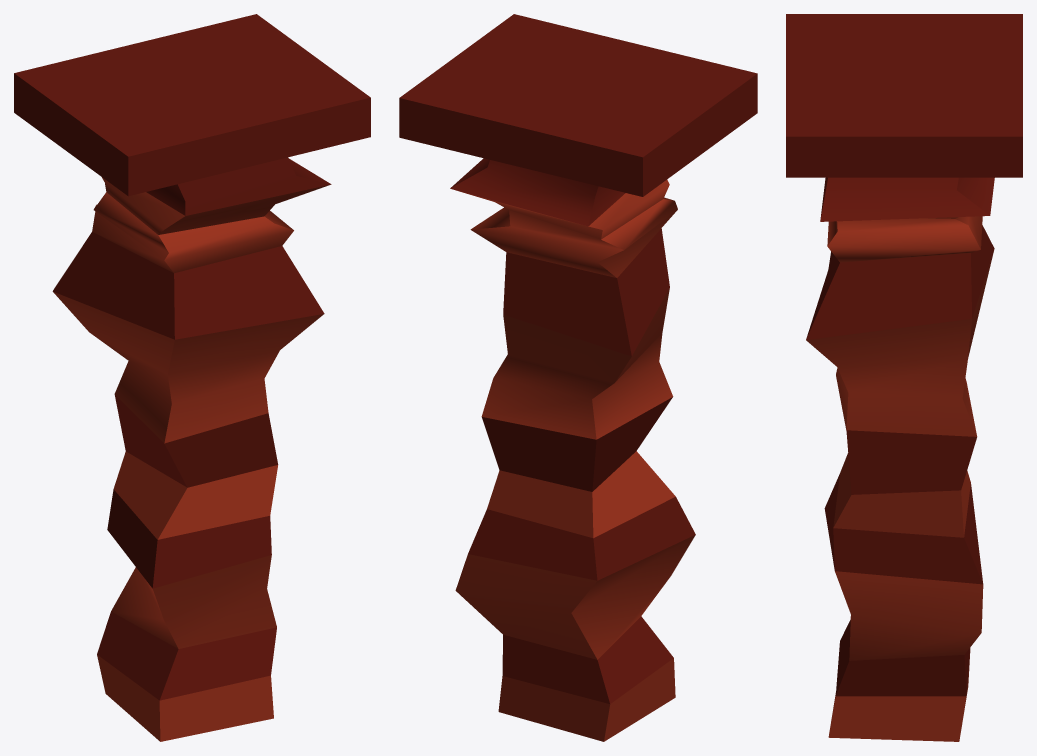
The model's file is coll2.FBX.
3 views of the same model, side by side, from view 1: azimuth 30°, elevation 25°; view 2: azimuth 150°, elevation 25°; view 3: azimuth 270°, elevation 25° (orthographic). The views are drawn at different scales.
Visible parts, largest first — view 1: Collumn3; view 2: Collumn3; view 3: Collumn3.
Boxes of the visible parts, x1=… form: Collumn3: x1=14, y1=14, x2=370, y2=741; Collumn3: x1=399, y1=14, x2=757, y2=741; Collumn3: x1=786, y1=14, x2=1022, y2=741.
Bounding box in the file's own units: 19.31 × 46.94 × 15.74.
